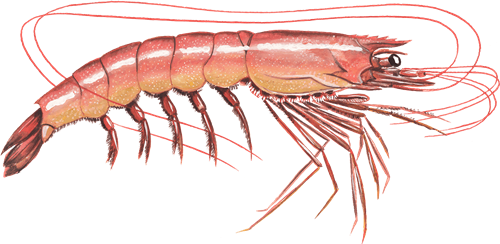Red Prawn: (1, 26, 497, 233)
